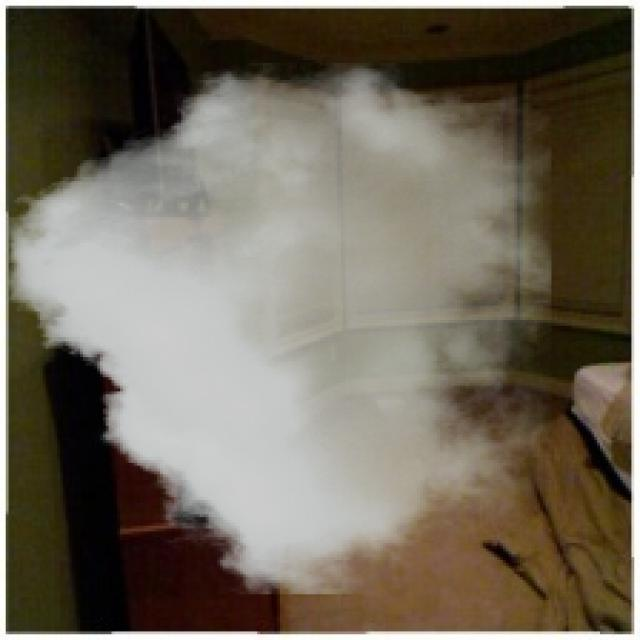smoke: (9, 63, 552, 594)
